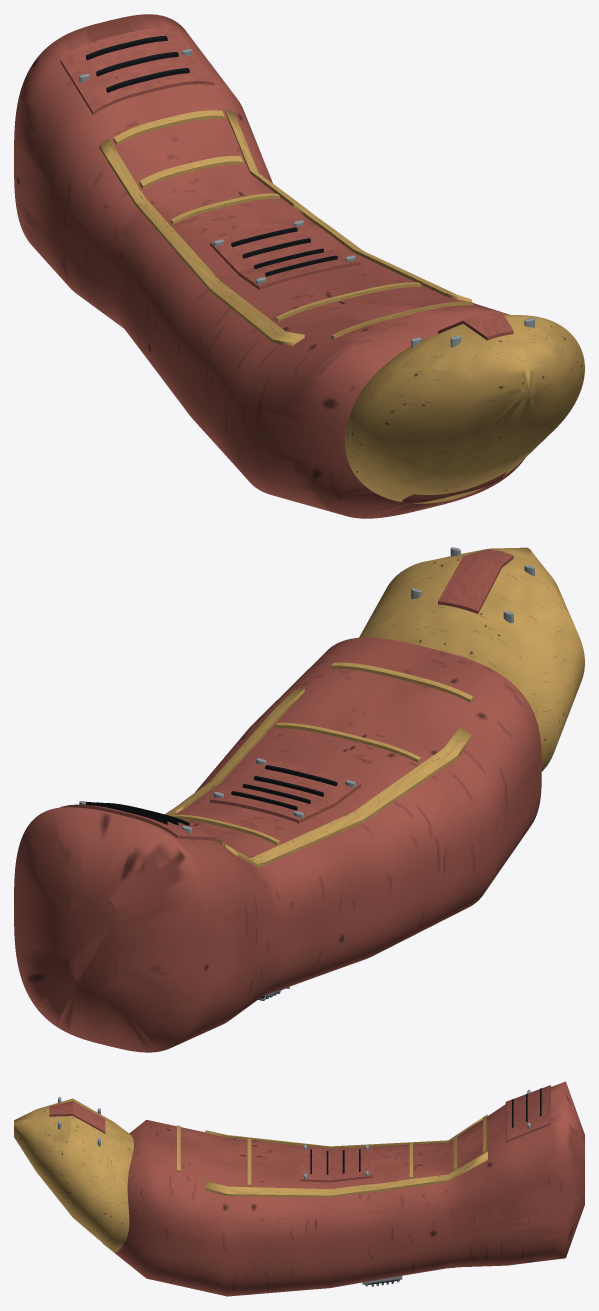
The picture shows the model from 3 angles, top to bottom: view 1: azimuth 30°, elevation 25°; view 2: azimuth 150°, elevation 25°; view 3: azimuth 270°, elevation 25°; orthographic projection. The views are drawn at different scales.
Parts seen in each view (by area): view 1: PrimaryHullAndArmour, TrimAndFasteners, ServiceAssemblies, RecessedMachinery; view 2: PrimaryHullAndArmour, TrimAndFasteners, ServiceAssemblies, RecessedMachinery; view 3: PrimaryHullAndArmour, TrimAndFasteners, ServiceAssemblies, RecessedMachinery.
Part boxes in pixels (x1,y1,x2,y2): PrimaryHullAndArmour: [14, 14, 584, 518]; TrimAndFasteners: [79, 49, 472, 345]; ServiceAssemblies: [210, 221, 361, 289]; RecessedMachinery: [86, 35, 337, 276]; PrimaryHullAndArmour: [14, 547, 584, 1052]; TrimAndFasteners: [79, 662, 472, 999]; ServiceAssemblies: [210, 759, 361, 1000]; RecessedMachinery: [86, 765, 337, 825]; PrimaryHullAndArmour: [14, 1081, 584, 1296]; TrimAndFasteners: [177, 1089, 530, 1286]; ServiceAssemblies: [299, 1146, 455, 1286]; RecessedMachinery: [310, 1088, 541, 1174].
Bounding box in the file's own units: 1.32 × 1.39 × 3.88.
Materials: 1 (1 with a texture image).
